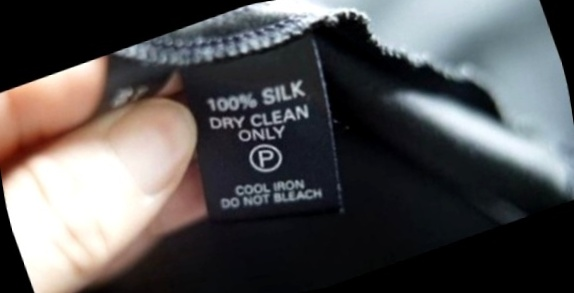dry_clean_any_solvent_except_trichloroethylene: (241, 133, 292, 181)
